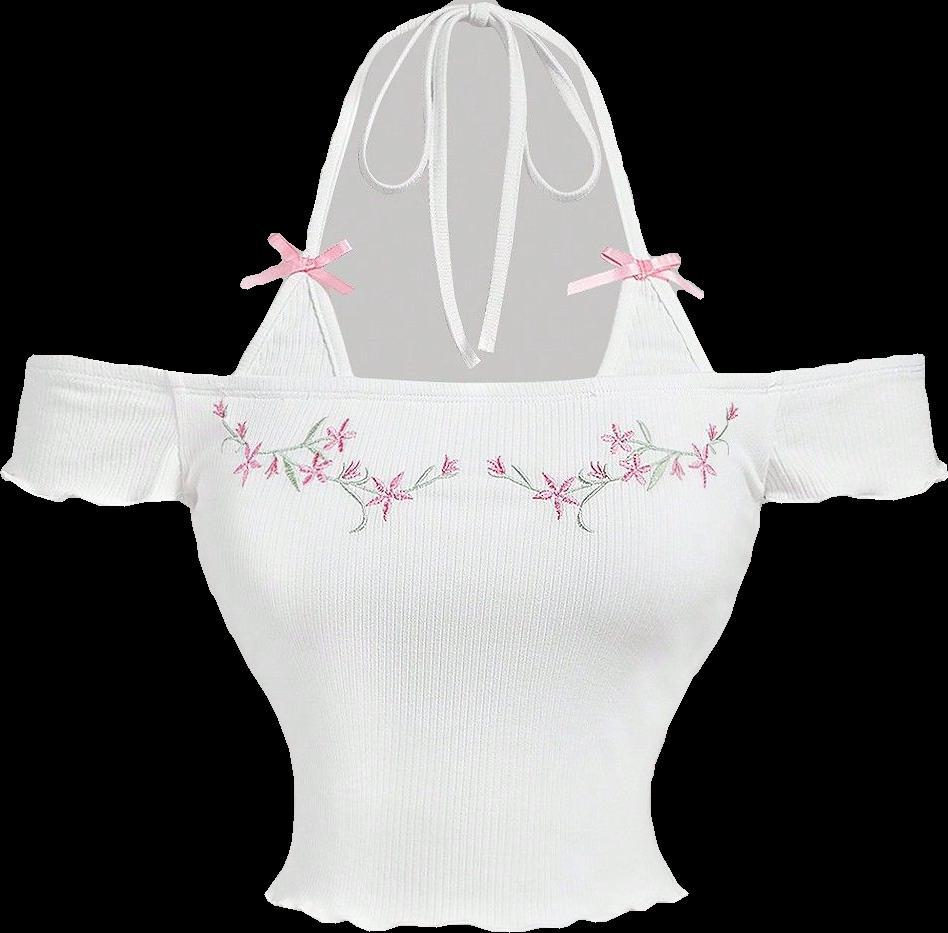Bodice: (165, 250, 798, 930)
Neckline: (168, 251, 790, 390), (171, 366, 791, 393)
Sleeve: (762, 354, 947, 503), (0, 355, 182, 505)
Sleeveline: (758, 364, 801, 502), (165, 363, 193, 508)
Waistline: (263, 889, 695, 932)
